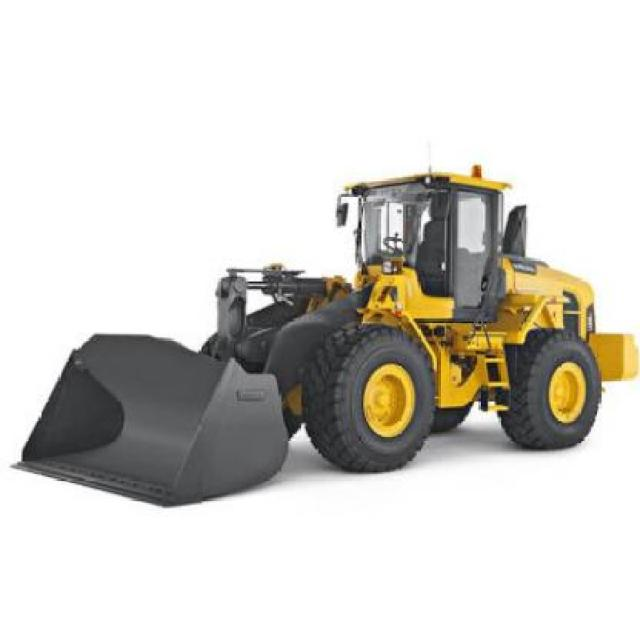buldozerpayloadergrader: (12, 145, 640, 502)
